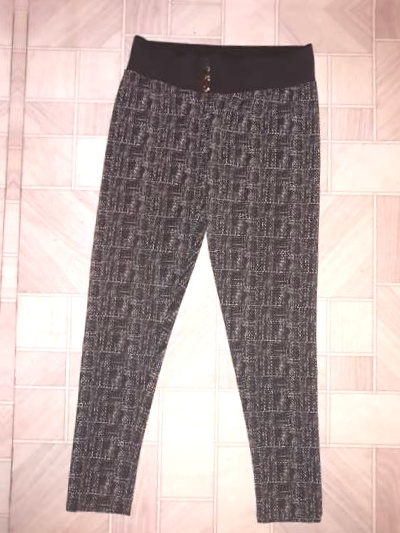Pants: (31, 13, 368, 531)
